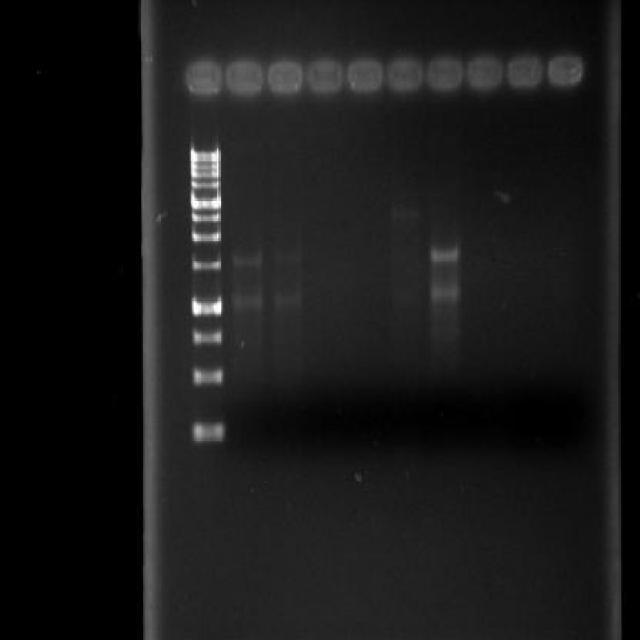B: (428, 240, 462, 268), (428, 282, 463, 306), (229, 290, 265, 312), (228, 248, 264, 268), (270, 290, 302, 312), (388, 201, 422, 221), (268, 250, 304, 267)
L: (166, 43, 605, 114)
M: (182, 113, 226, 456)
P: (189, 416, 228, 446), (189, 362, 226, 389), (190, 292, 224, 318), (190, 324, 224, 348), (190, 252, 222, 274), (190, 190, 224, 210), (189, 227, 222, 244), (189, 146, 222, 162), (190, 210, 221, 224), (190, 179, 221, 190), (189, 170, 222, 179), (188, 162, 221, 170)
Pc: (225, 52, 264, 102), (183, 52, 223, 100), (306, 54, 346, 100), (385, 52, 423, 97), (546, 49, 586, 91), (267, 55, 304, 100), (346, 54, 384, 97), (424, 54, 464, 94), (506, 52, 546, 92), (466, 53, 503, 93)
